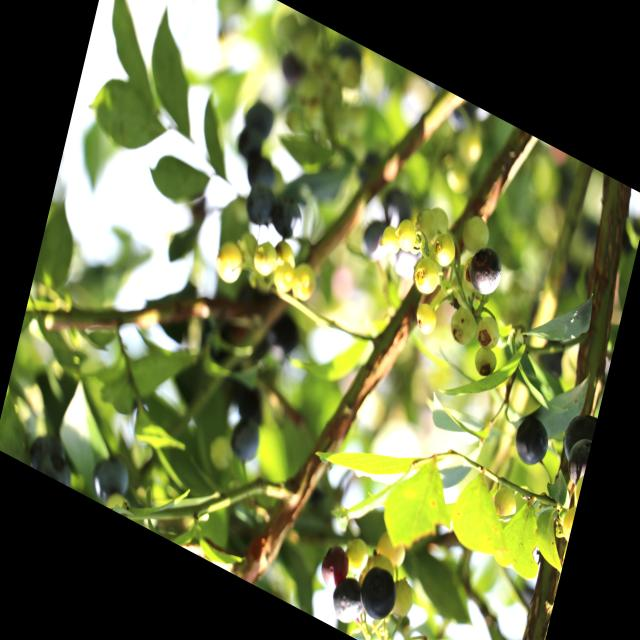blueberry: (355, 558, 402, 626), (463, 236, 508, 300), (511, 409, 554, 473), (558, 399, 598, 466), (328, 570, 366, 632), (224, 413, 262, 469), (269, 190, 305, 248), (242, 177, 278, 233), (317, 540, 350, 596), (564, 431, 592, 488), (360, 220, 390, 265)
blueberry-unripe: (213, 234, 246, 288), (446, 302, 479, 354), (409, 252, 443, 302), (487, 478, 520, 528), (459, 212, 493, 258), (290, 259, 319, 305), (473, 311, 503, 355), (430, 229, 458, 272), (250, 238, 278, 280), (412, 298, 440, 339), (392, 215, 420, 256), (471, 344, 499, 382), (378, 221, 403, 261), (272, 238, 300, 272), (271, 262, 295, 298)
